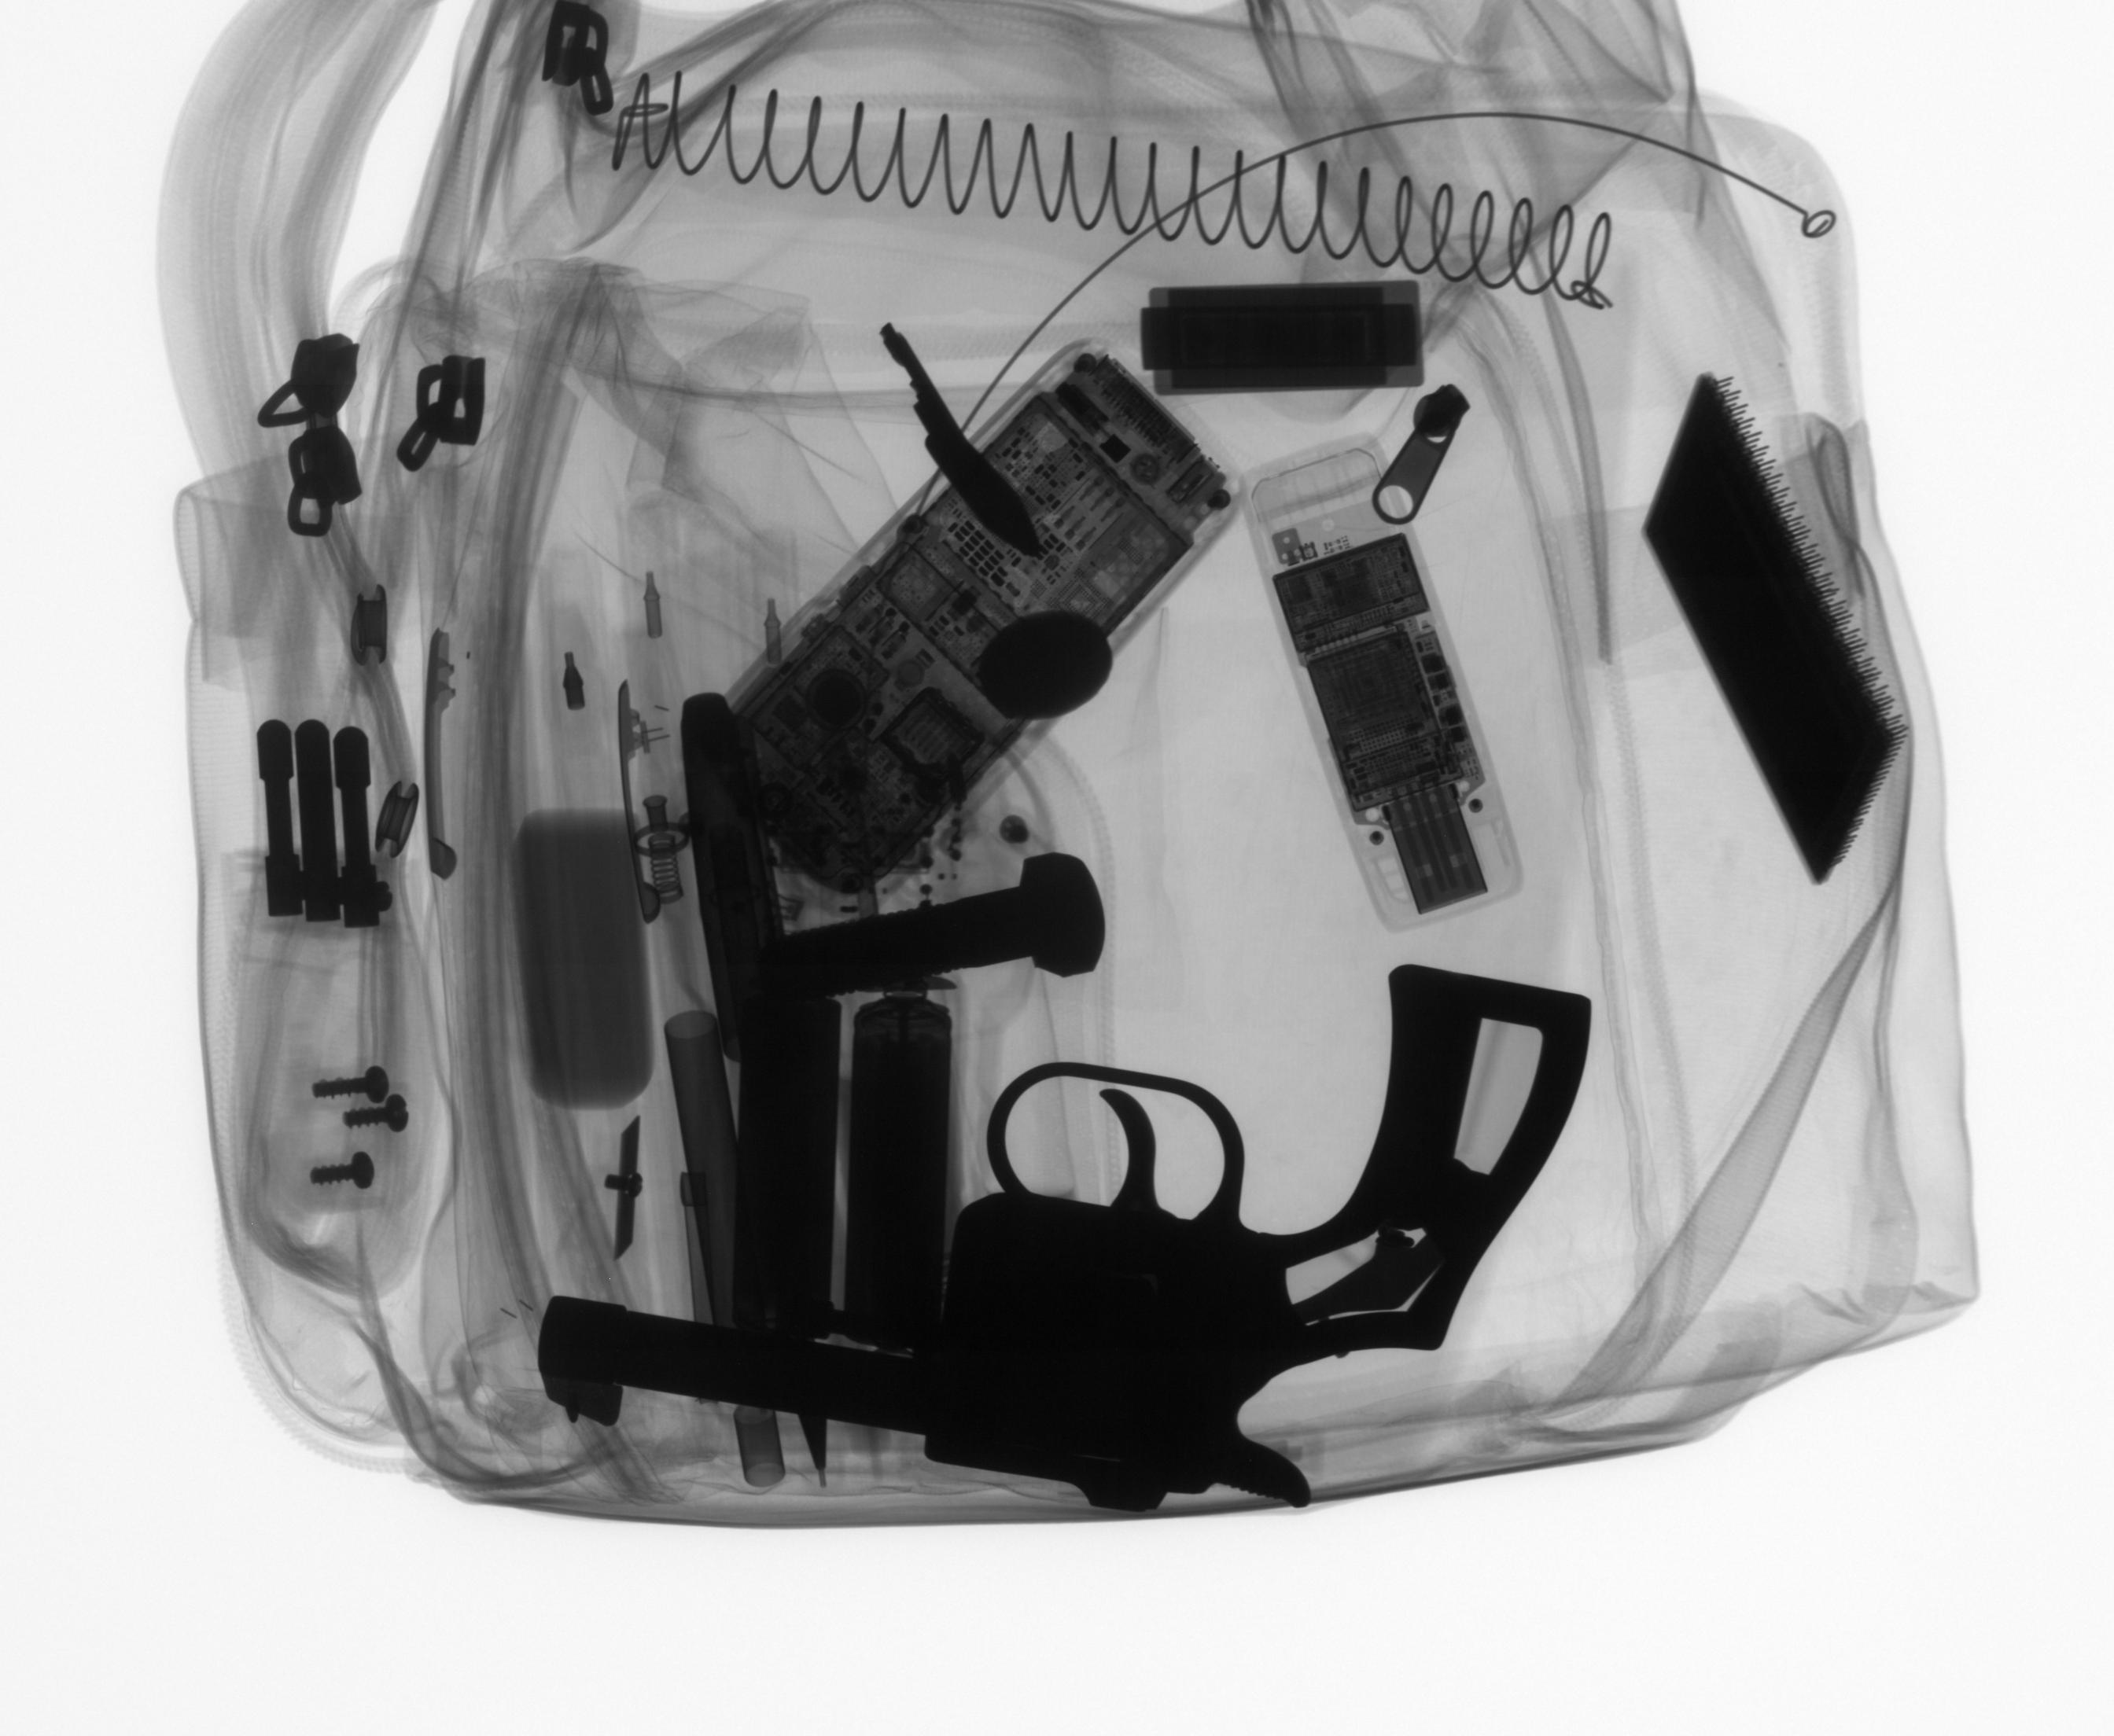Handgun: (525, 951, 1604, 1528)
